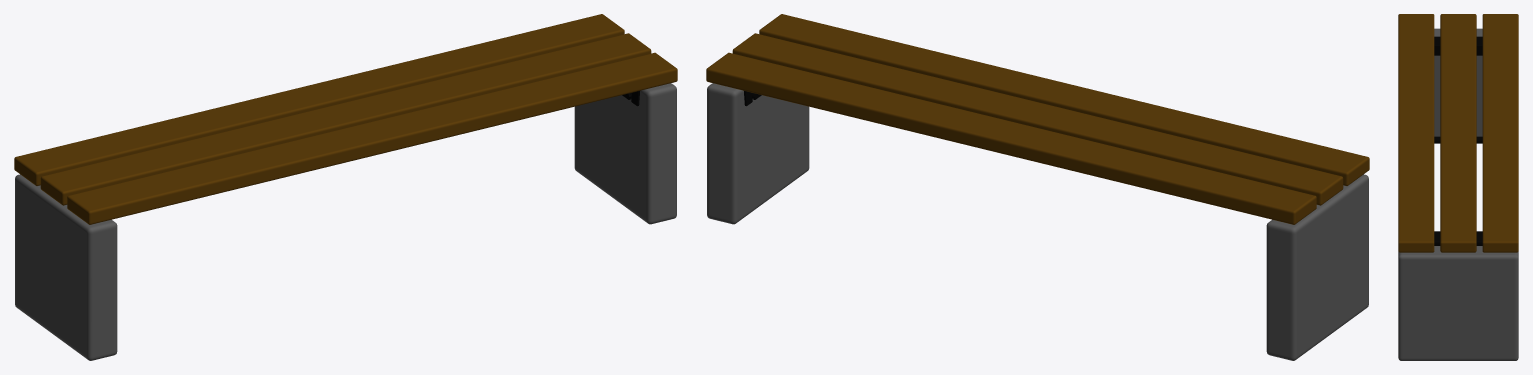
The model's file is Bench#2.fbx.
The picture shows the model from 3 angles, left to right: view 1: azimuth 30°, elevation 25°; view 2: azimuth 150°, elevation 25°; view 3: azimuth 270°, elevation 25°; orthographic projection. The views are drawn at different scales.
Visible parts, largest first — view 1: Burri_Maro_oRL; view 2: Burri_Maro_oRL; view 3: Burri_Maro_oRL.
Boxes of the visible parts, x1=… form: Burri_Maro_oRL: x1=14, y1=14, x2=677, y2=360; Burri_Maro_oRL: x1=706, y1=14, x2=1369, y2=360; Burri_Maro_oRL: x1=1398, y1=14, x2=1518, y2=360.
Bounding box in the file's own units: 7.64 × 1.87 × 1.7.
